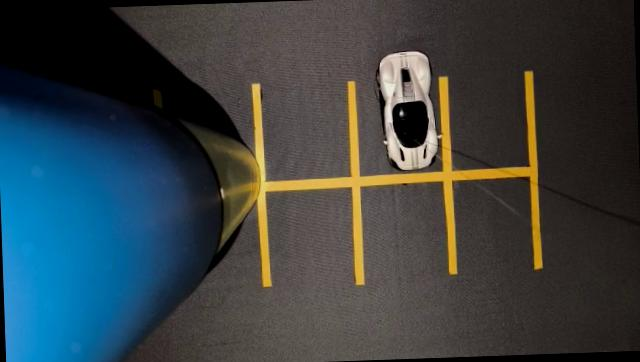toy_car: (353, 35, 458, 180)
